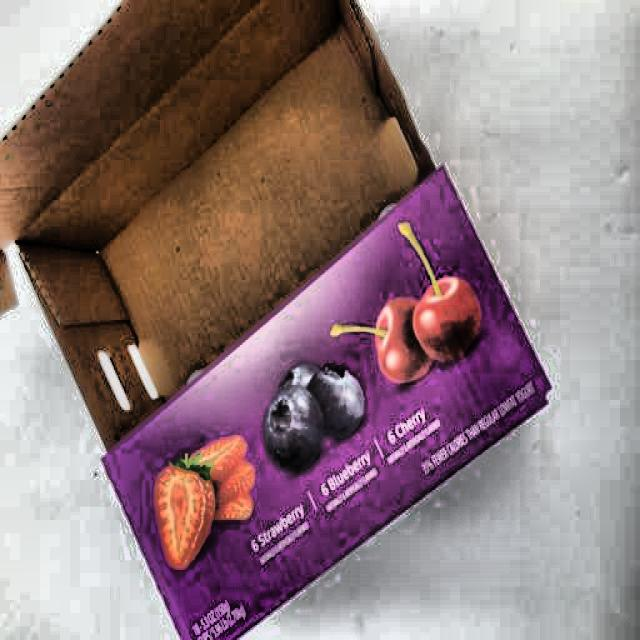cardboard: (1, 8, 547, 629)
